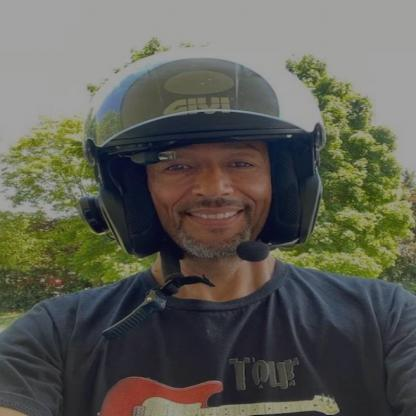helmet: (85, 50, 326, 259)
